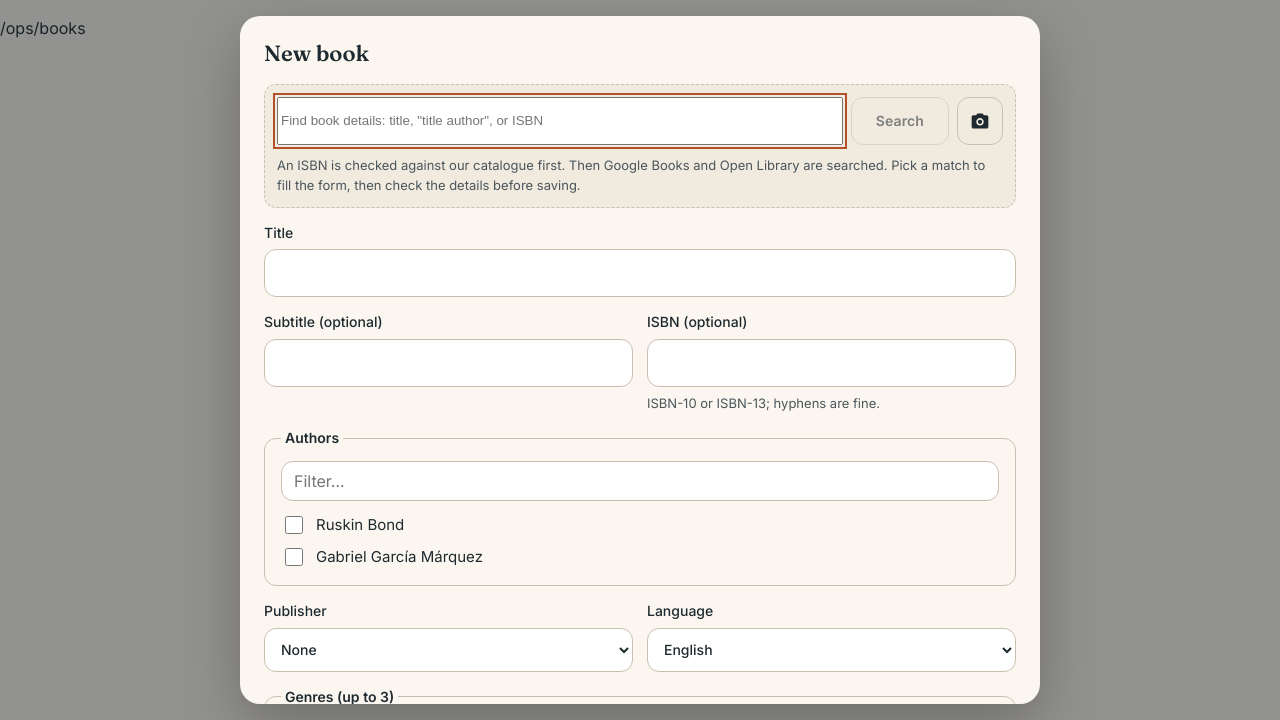
Test: New book: find book details › leaves the choice to the person when two matches carry the ISBN, or the only one is another edition
The width and height of the screenshot is (1280, 720).
Type "9780306406157" into the search field labelled "Find book details". click: (560, 120)
box: [277,96,843,144]
Then press Enter
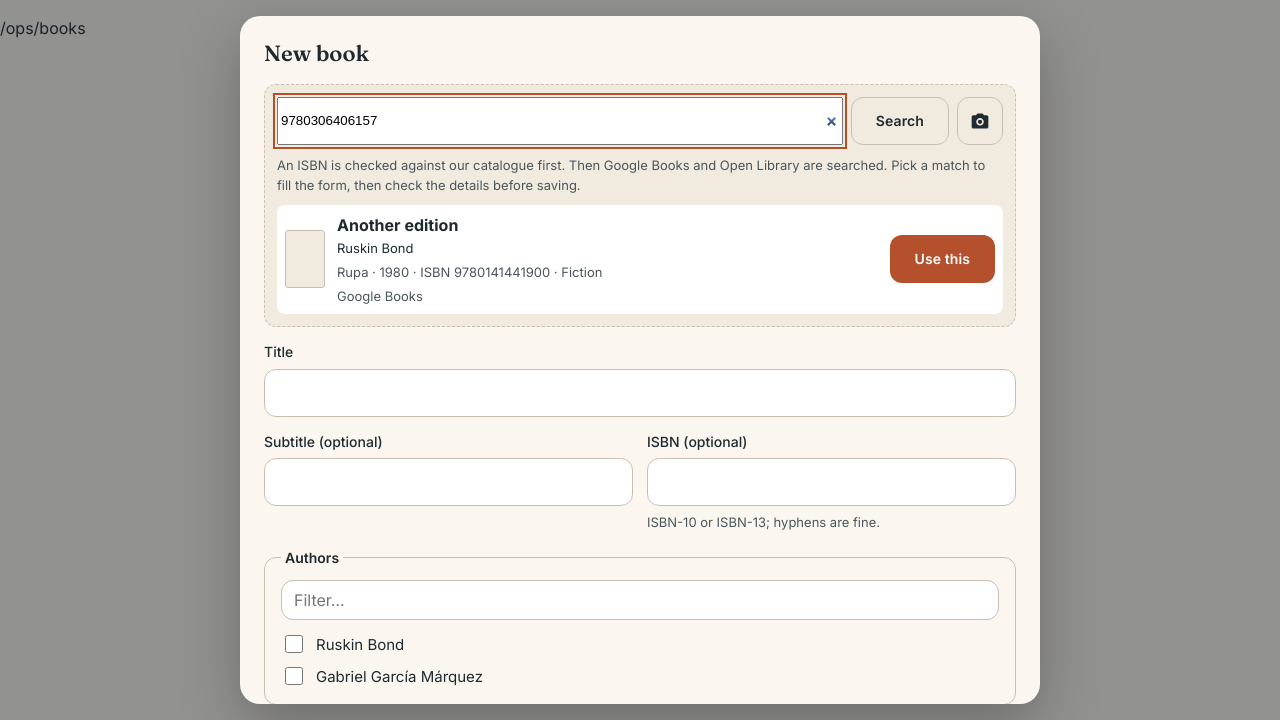
Check: the field labelled "Title" is empty, box [264,369,1016,417]
Check: the button "Use this" is shown, box [890,235,995,283]
Replace the text in the search field named "Find book details" with "blue umbrella". click: (560, 120)
box: [277,96,843,144]
Then press Enter
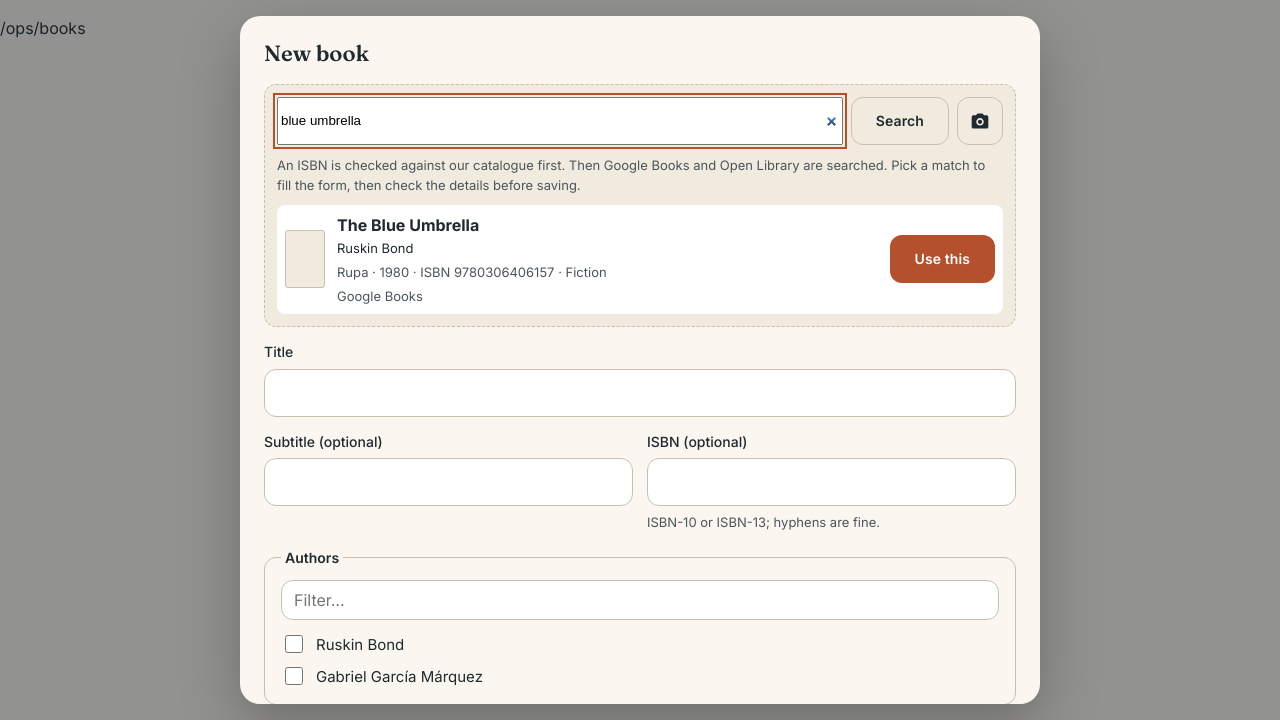
Check: the field labelled "Title" is empty, box [264,369,1016,417]
Check: the text "The Blue Umbrella" is shown, box [337,215,479,235]
